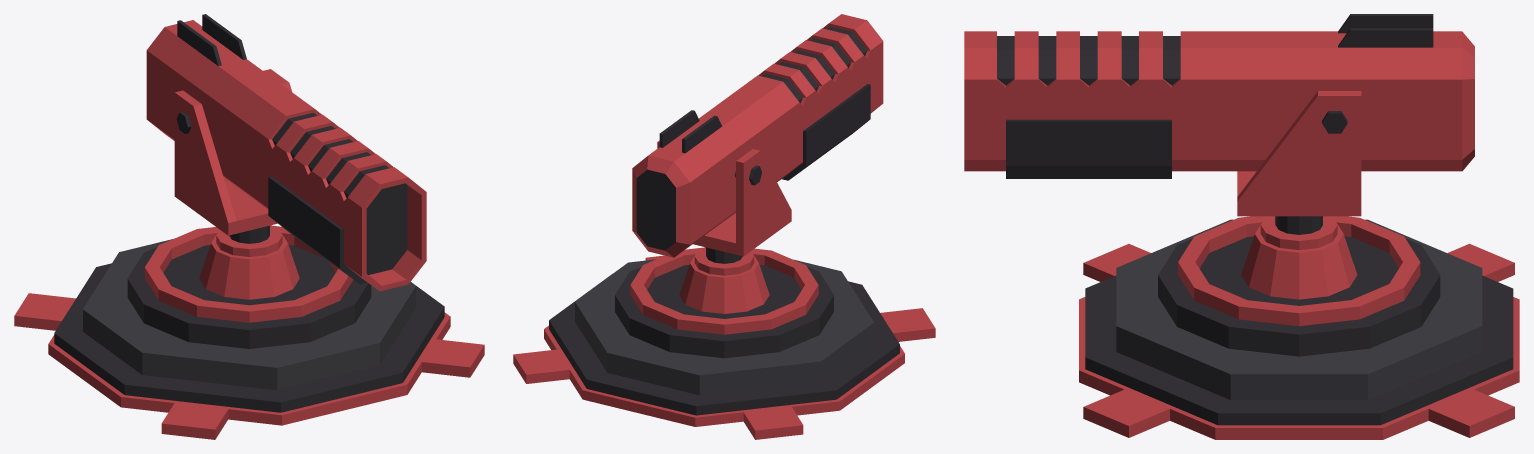
The model's file is scout.fbx.
3 renders of one model, left to right at view 1: azimuth 30°, elevation 25°; view 2: azimuth 150°, elevation 25°; view 3: azimuth 270°, elevation 25°, orthographic. The views are drawn at different scales.
Visible parts, largest first — view 1: Cube.059, Cube.058; view 2: Cube.059, Cube.058; view 3: Cube.059, Cube.058.
Part boxes in pixels (x1=…): Cube.059: x1=14, y1=225, x2=484, y2=439; Cube.058: x1=146, y1=14, x2=426, y2=291; Cube.059: x1=513, y1=247, x2=935, y2=439; Cube.058: x1=632, y1=14, x2=883, y2=263; Cube.059: x1=1079, y1=216, x2=1519, y2=439; Cube.058: x1=964, y1=14, x2=1474, y2=234.
Bounding box in the file's own units: 181 × 147 × 228.
